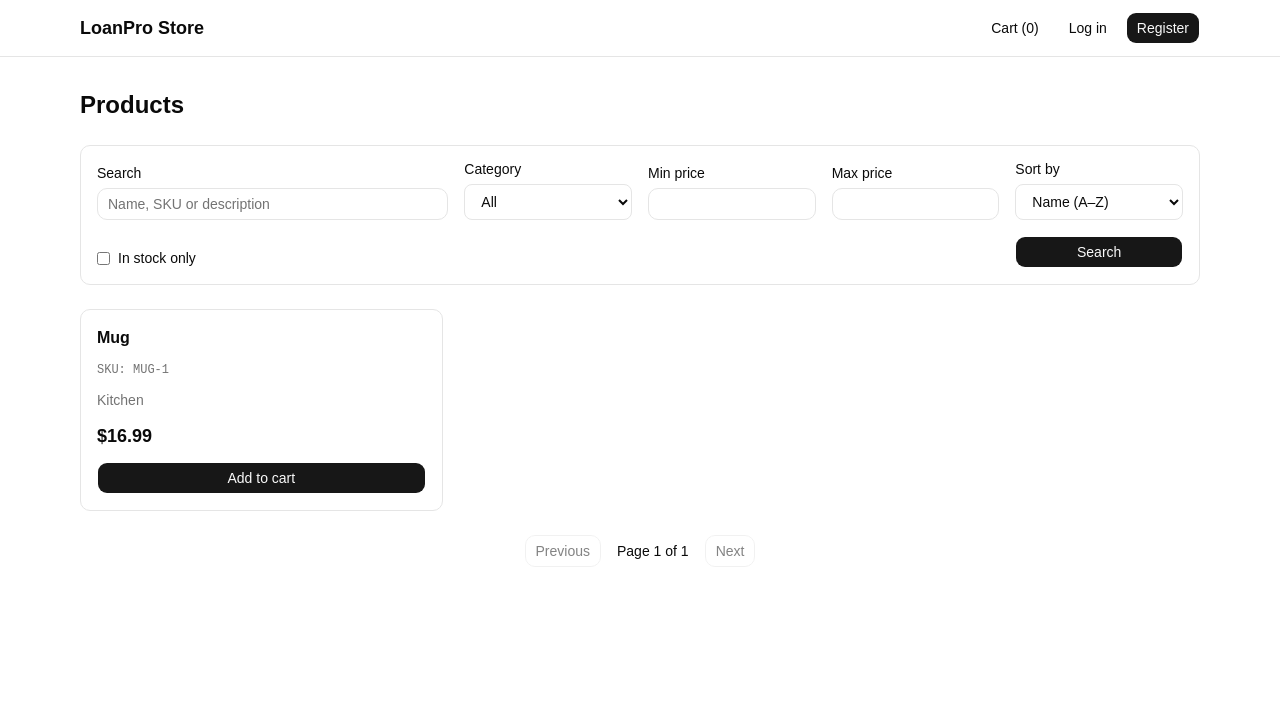
product detail › shows a product with its details and links back from the catalog
Click the link "Mug" at [113, 338], box [97,329,130,346]
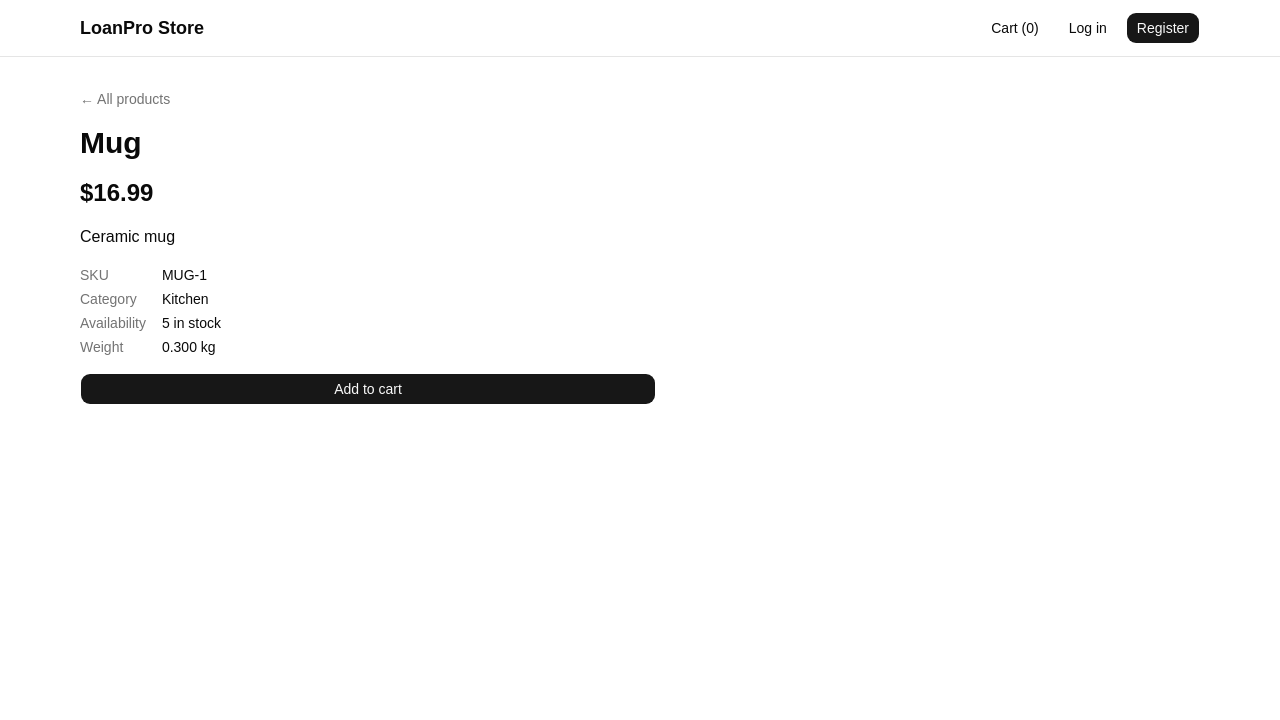
Now the heading "Mug" is shown, box [80,126,142,159]
Now the text "Ceramic mug" is shown, box [80,228,175,245]
Now the text "5 in stock" is shown, box [162,315,221,331]
